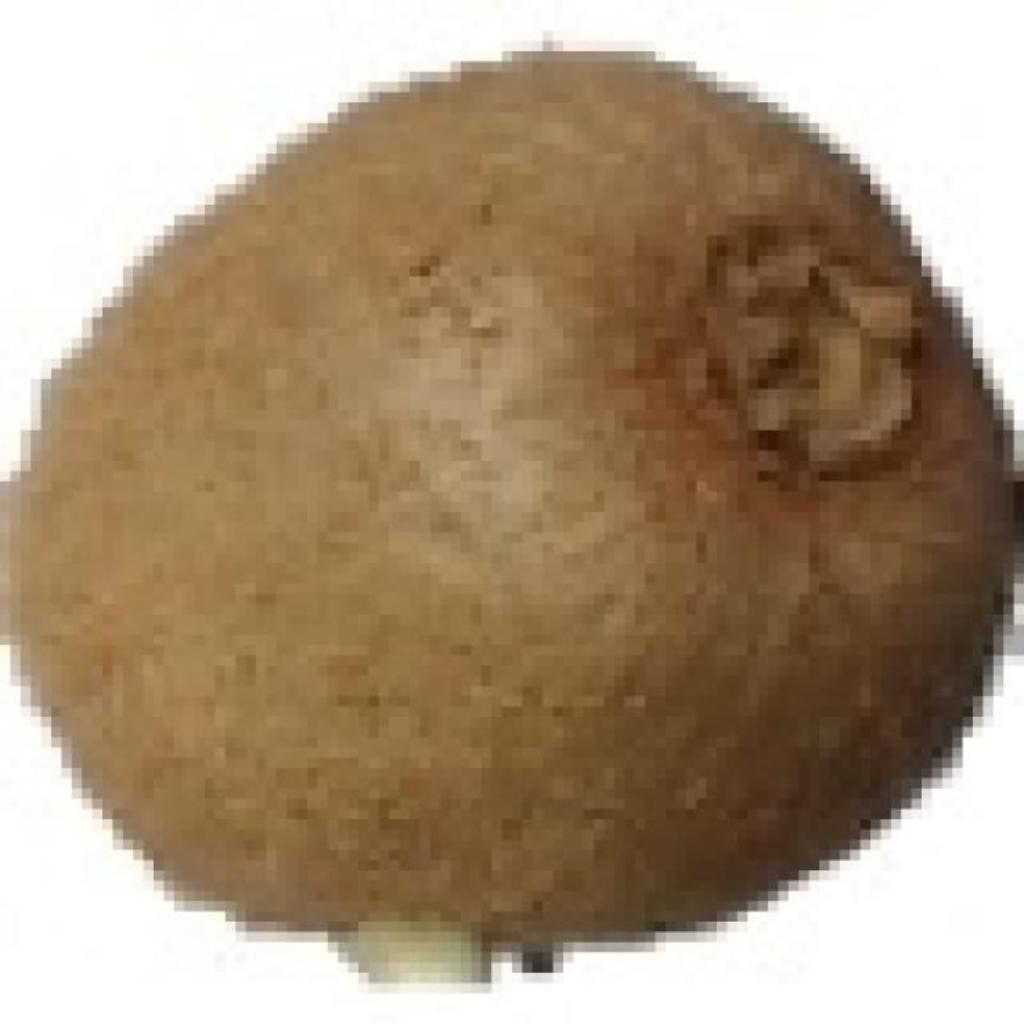kiwi: (10, 41, 983, 952)
